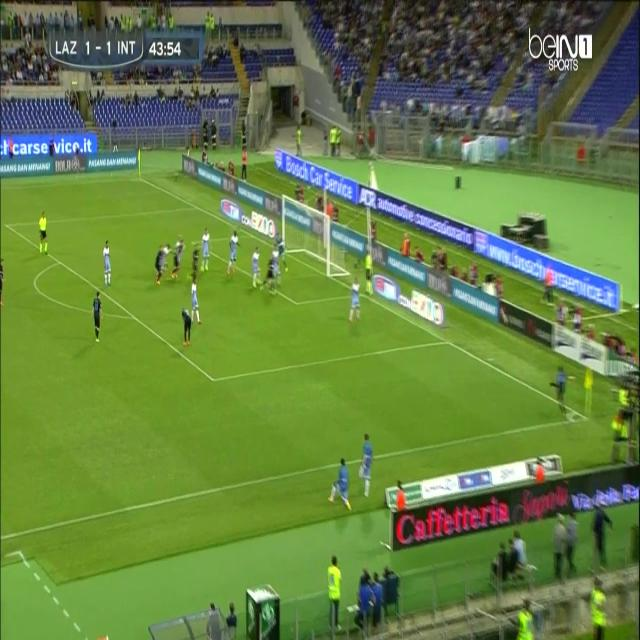Goalkeeper: (275, 232, 290, 274)
Player: (327, 456, 353, 511), (357, 431, 375, 496), (549, 364, 567, 417), (226, 227, 244, 279), (346, 277, 363, 326), (170, 233, 186, 282), (92, 291, 104, 348), (102, 238, 114, 292), (201, 226, 213, 276), (189, 282, 202, 328), (260, 255, 275, 294), (153, 244, 165, 289), (252, 247, 264, 290), (272, 243, 282, 284), (190, 247, 200, 286), (182, 307, 190, 352)
Referee: (37, 208, 50, 257), (364, 251, 376, 298)
